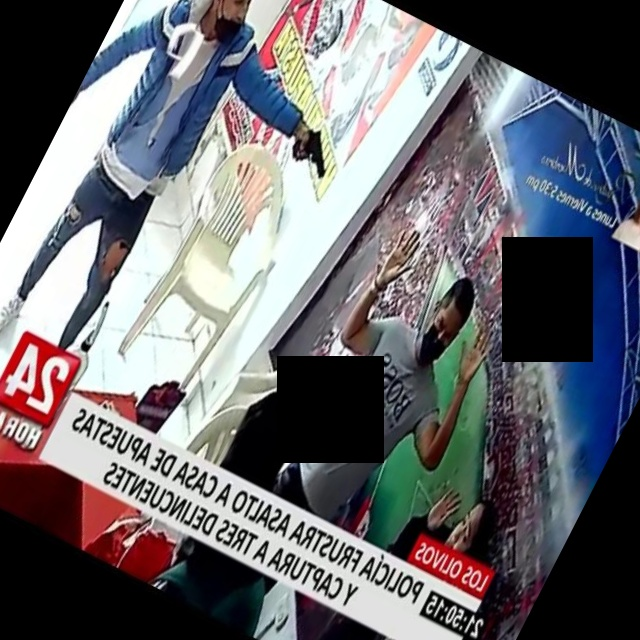gun: (271, 99, 367, 209)
